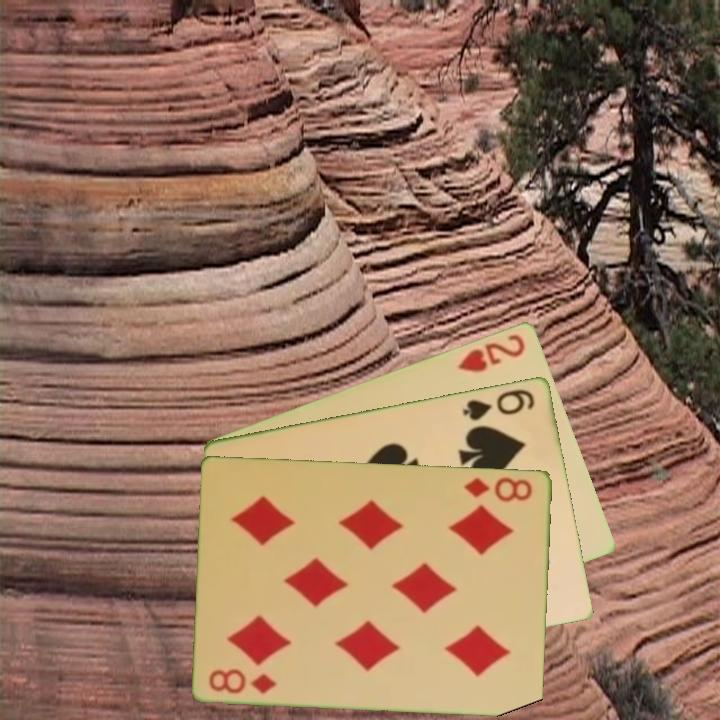2h: (454, 330, 529, 375)
6s: (459, 385, 538, 423)
8d: (206, 665, 280, 697), (461, 473, 536, 504)
